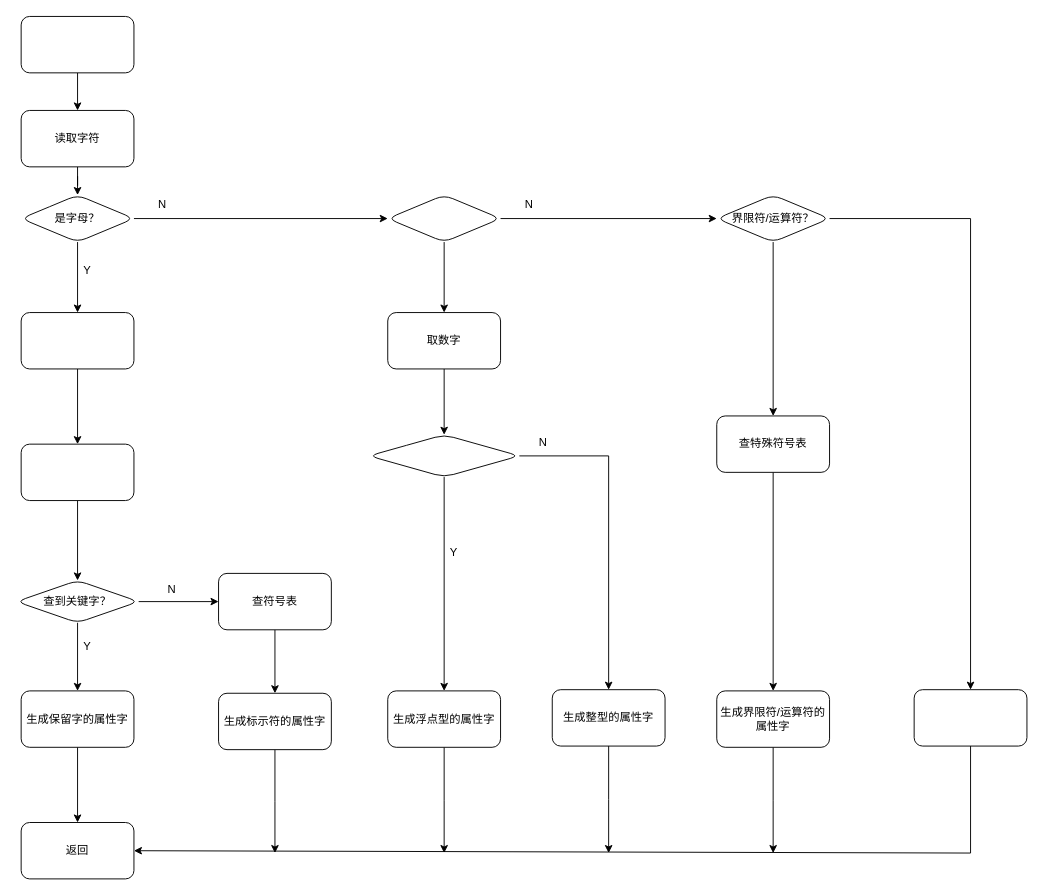
Some shapes in this 1043 by 896 pixel diagram are drawn without their labels. The centre of each missing label's shape, as x and y in pixels:
"Report error！" belongs at point (970, 717).
"初始化" belongs at point (77, 44).
"在关键字表中查询" belongs at point (77, 472).
"是数字？" belongs at point (444, 218).
"是浮点型" belongs at point (443, 455).
"读取整个标识符" belongs at point (77, 340).
